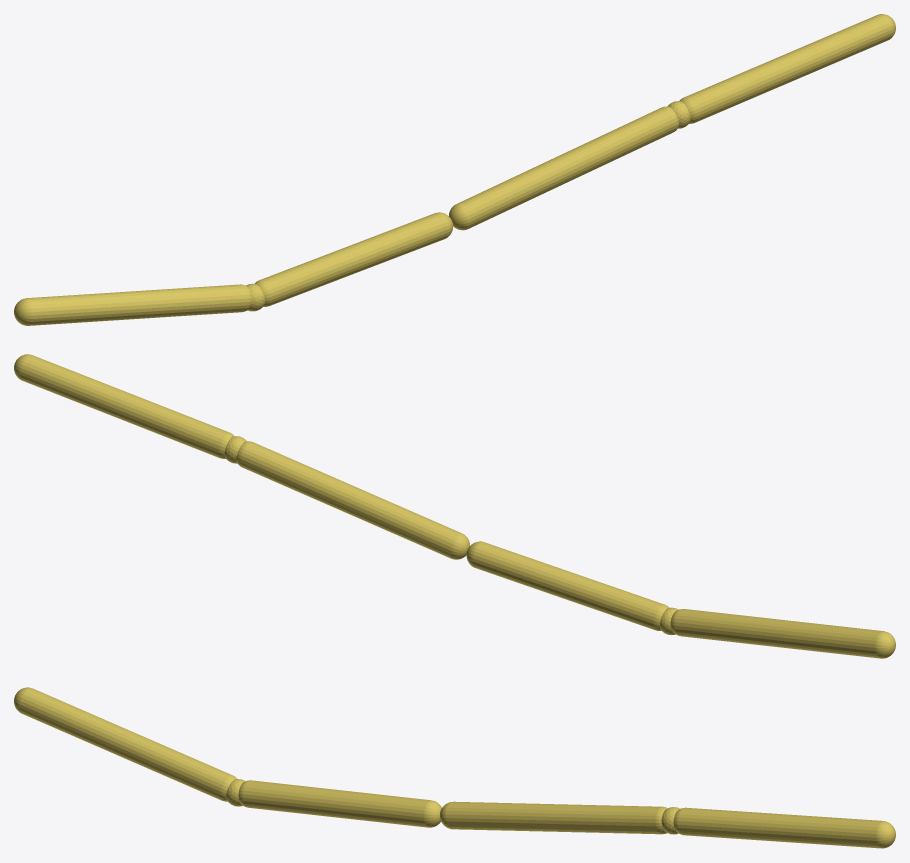
Rendered from dranmar_protected_nerve.glb.
The picture shows the model from 3 angles, top to bottom: view 1: azimuth 30°, elevation 25°; view 2: azimuth 150°, elevation 25°; view 3: azimuth 330°, elevation 25°; orthographic projection.
Parts seen in each view (by area): view 1: protected_nerve_right, protected_nerve_left; view 2: protected_nerve_right, protected_nerve_left; view 3: protected_nerve_right, protected_nerve_left.
Boxes of the visible parts, <box> form: protected_nerve_right: <box>449,14,895,230</box>; protected_nerve_left: <box>14,212,453,325</box>; protected_nerve_right: <box>14,354,469,559</box>; protected_nerve_left: <box>466,541,895,658</box>; protected_nerve_right: <box>440,801,895,848</box>; protected_nerve_left: <box>14,687,441,827</box>.
Bounding box in the file's own units: 0.1531 × 0.0219 × 0.00713.
